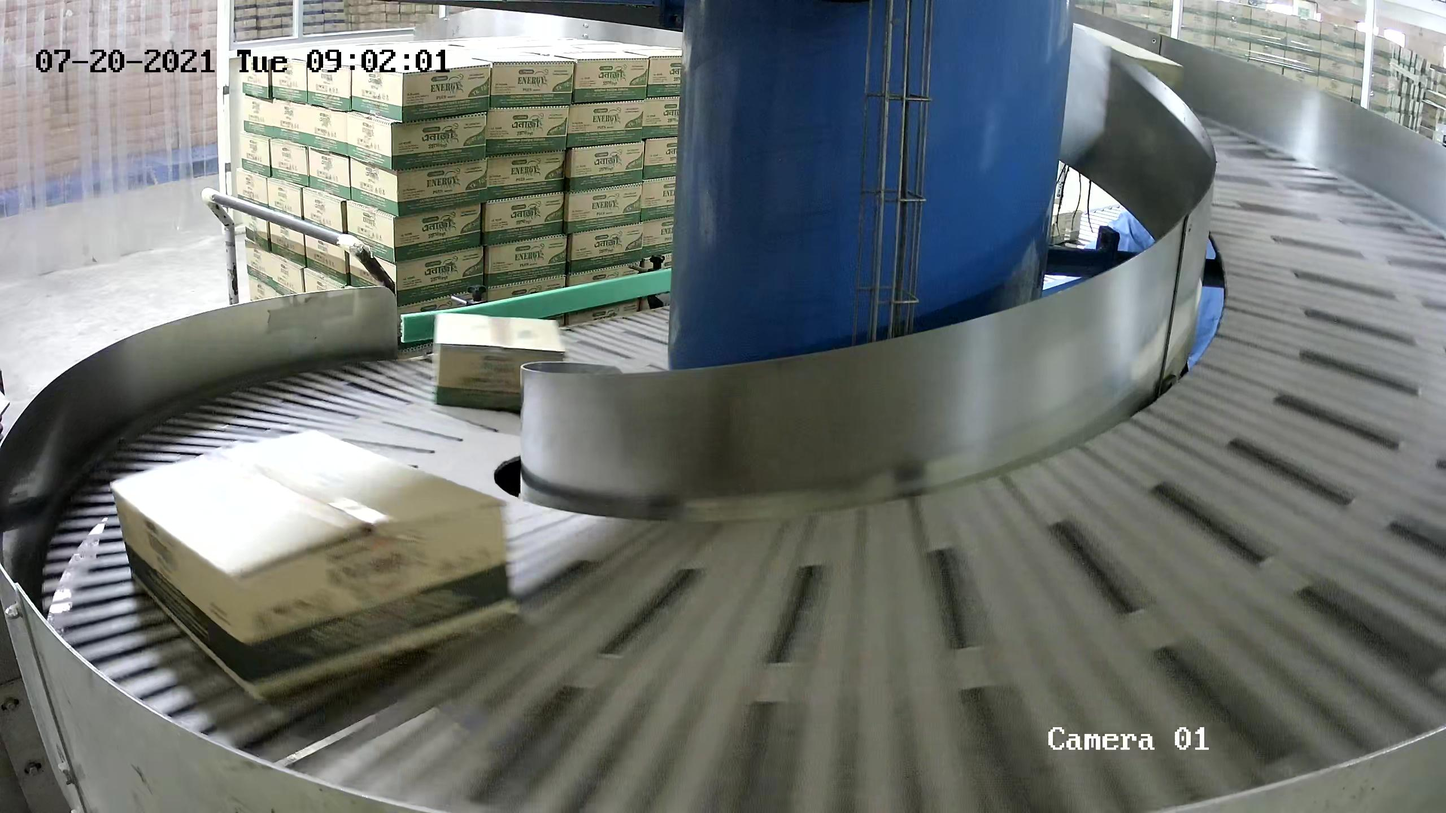Box: (107, 424, 516, 704), (430, 311, 569, 409)
